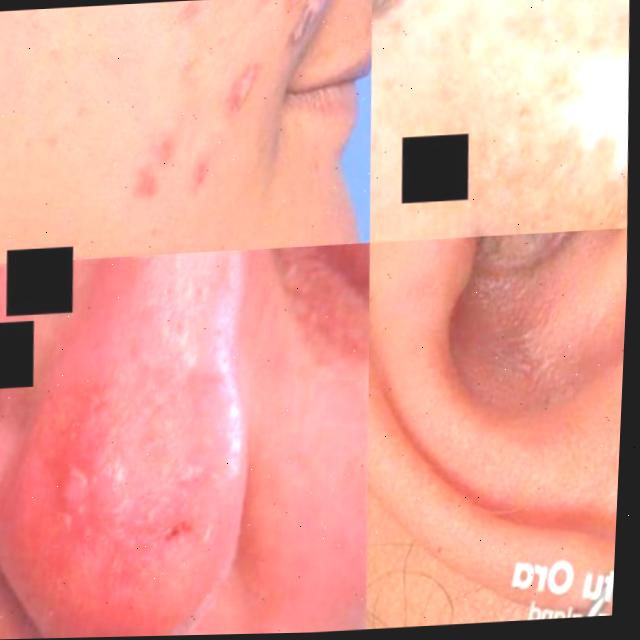lupus-detected: (0, 295, 291, 640), (10, 7, 289, 263), (360, 0, 637, 243), (142, 0, 377, 149), (378, 228, 629, 349)
